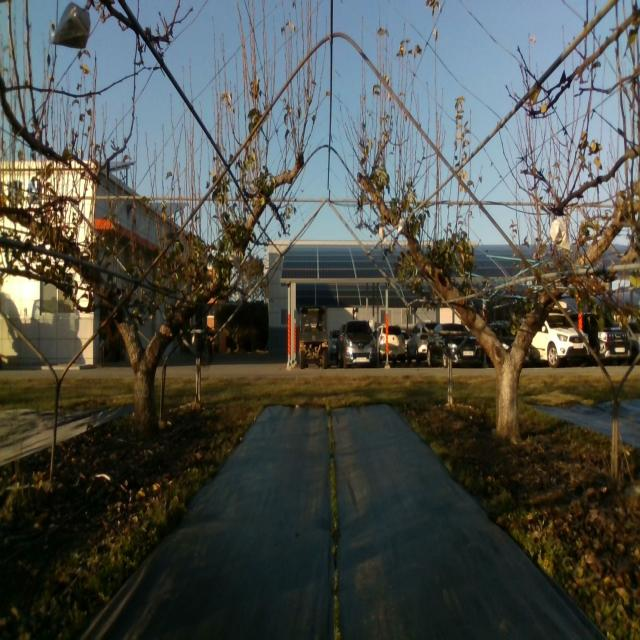pearbags: (51, 2, 91, 48), (550, 218, 570, 250)
